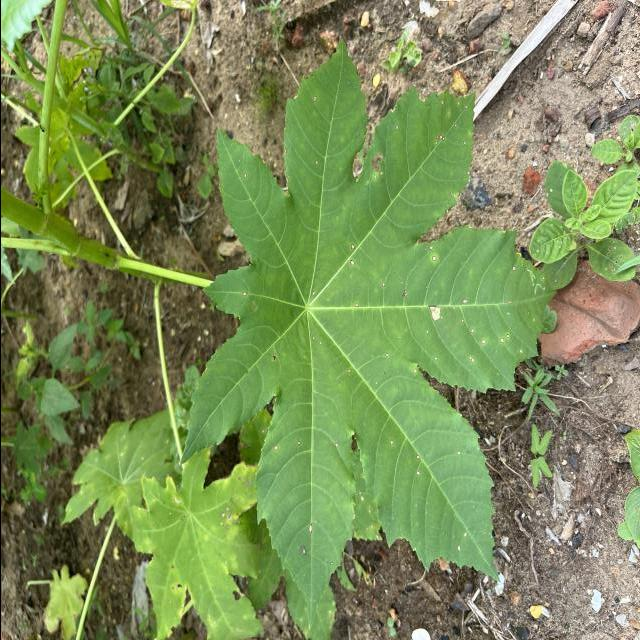Ricinus communis linn: (173, 34, 560, 635)
